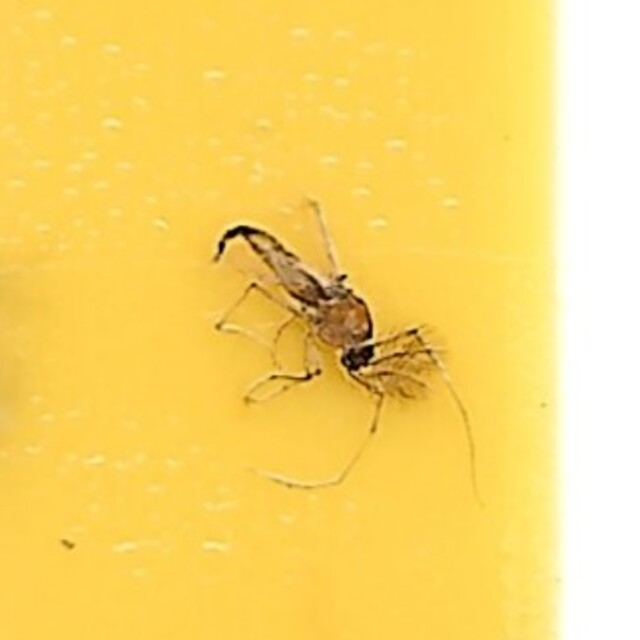Nematocera: (199, 205, 441, 435)
